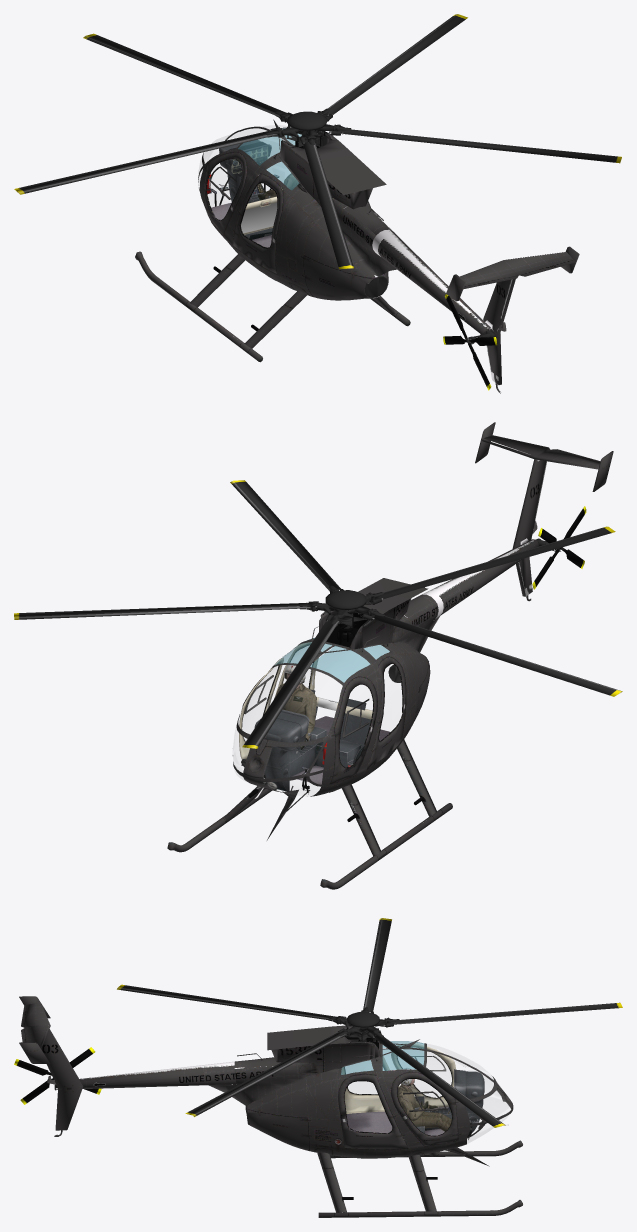
The picture shows the model from 3 angles, top to bottom: view 1: azimuth 30°, elevation 25°; view 2: azimuth 150°, elevation 25°; view 3: azimuth 270°, elevation 25°; orthographic projection. The views are drawn at different scales.
Parts seen in each view (by area): view 1: ext_fuse1, rotor_main, ext_fuse1_doors, ext_skids, int_console, glasss_grn, int_seats2, rotor_tail, glass; view 2: ext_fuse1, rotor_main, ext_fuse1_doors, ext_skids, int_console, int_seats2, glasss_grn, int_pilotR, glass, rotor_tail; view 3: ext_fuse1, rotor_main, ext_fuse1_doors, ext_skids, glass, int_pilotR, glasss_grn, int_console, int_fuse4, rotor_tail.
Boxes of the visible parts, x1,y1,x2,y2 form: ext_fuse1: [198, 119, 579, 393]; rotor_main: [14, 14, 621, 269]; ext_fuse1_doors: [204, 152, 283, 273]; ext_skids: [135, 251, 410, 362]; int_console: [206, 139, 271, 203]; glasss_grn: [238, 128, 301, 190]; int_seats2: [233, 196, 333, 239]; rotor_tail: [443, 294, 497, 390]; glass: [198, 125, 286, 206]; ext_fuse1: [232, 422, 613, 840]; rotor_main: [14, 480, 622, 748]; ext_fuse1_doors: [239, 642, 406, 783]; ext_skids: [167, 739, 452, 889]; int_console: [254, 709, 327, 791]; int_seats2: [275, 687, 372, 767]; glasss_grn: [274, 638, 389, 682]; int_pilotR: [241, 663, 316, 778]; glass: [233, 666, 310, 781]; rotor_tail: [532, 506, 586, 589]; ext_fuse1: [19, 996, 513, 1166]; rotor_main: [117, 918, 622, 1127]; ext_fuse1_doors: [338, 1043, 458, 1149]; ext_skids: [317, 1140, 522, 1217]; glass: [348, 1044, 509, 1143]; int_pilotR: [397, 1068, 472, 1135]; glasss_grn: [341, 1041, 424, 1074]; int_console: [425, 1069, 484, 1132]; int_fuse4: [346, 1106, 448, 1135]; rotor_tail: [14, 1047, 101, 1104].
Size of the model in its own units: 7.48 by 2.89 by 9.2.
Materials: 11 (11 with a texture image).
